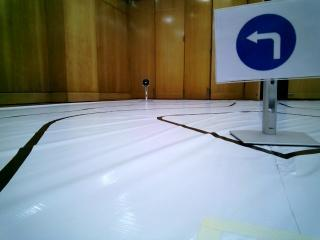left: (216, 7, 318, 79)
